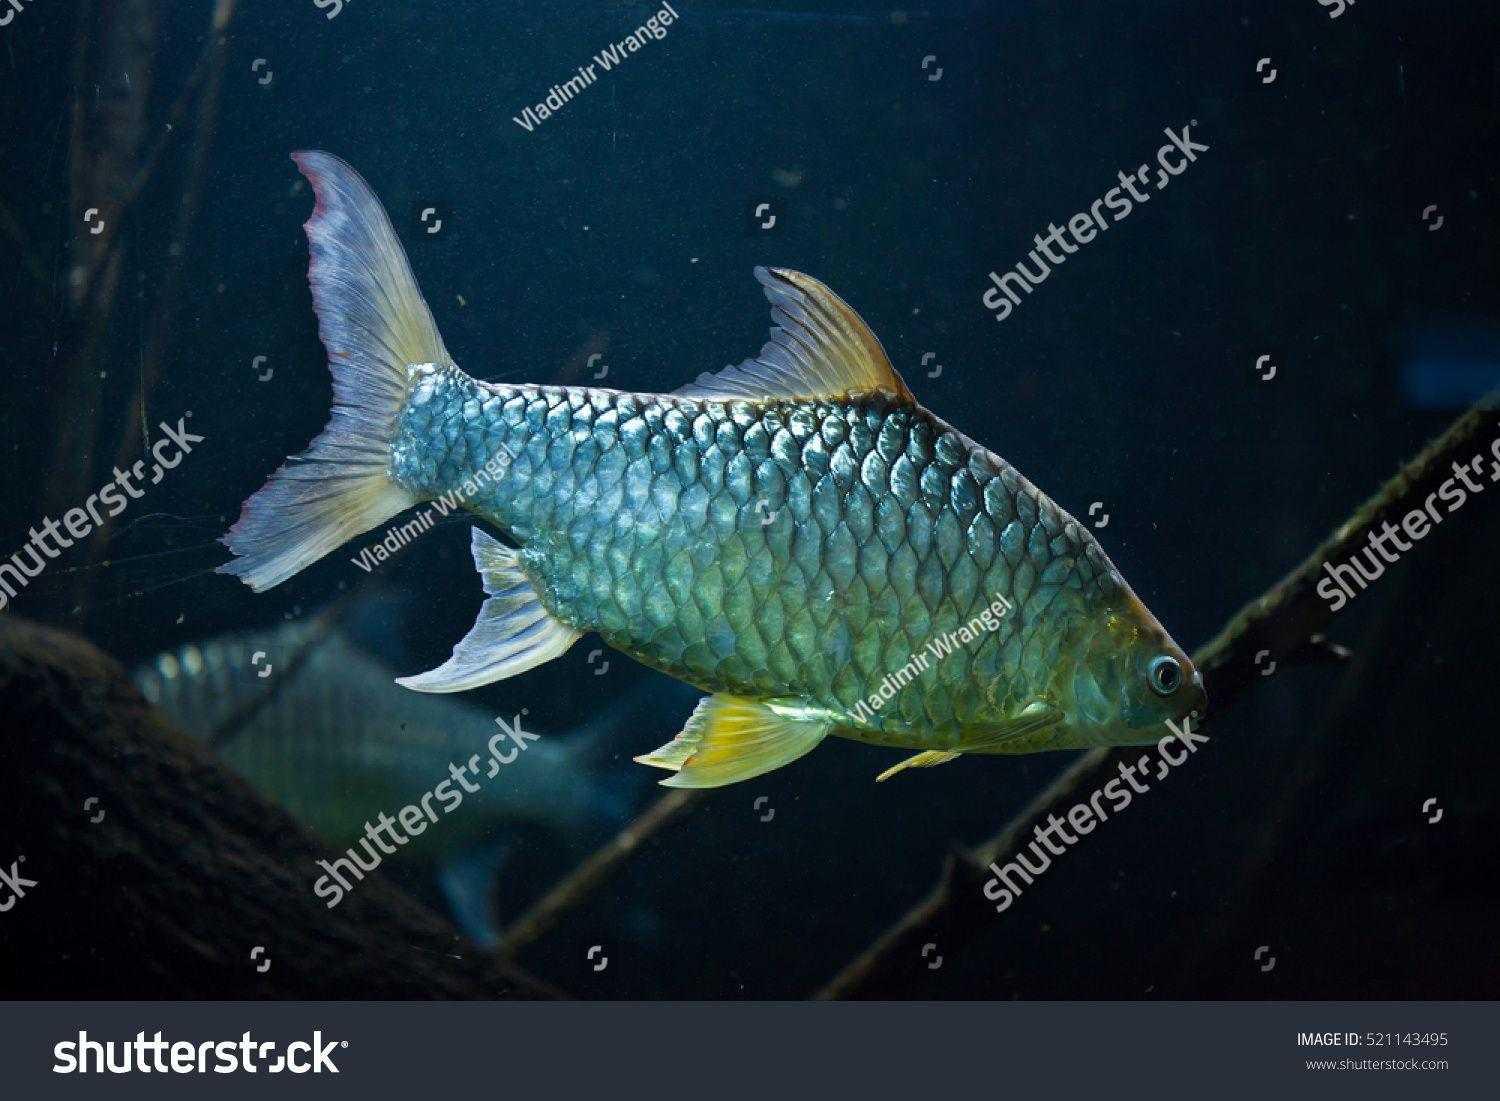Silver Barb: (213, 127, 1220, 779)
